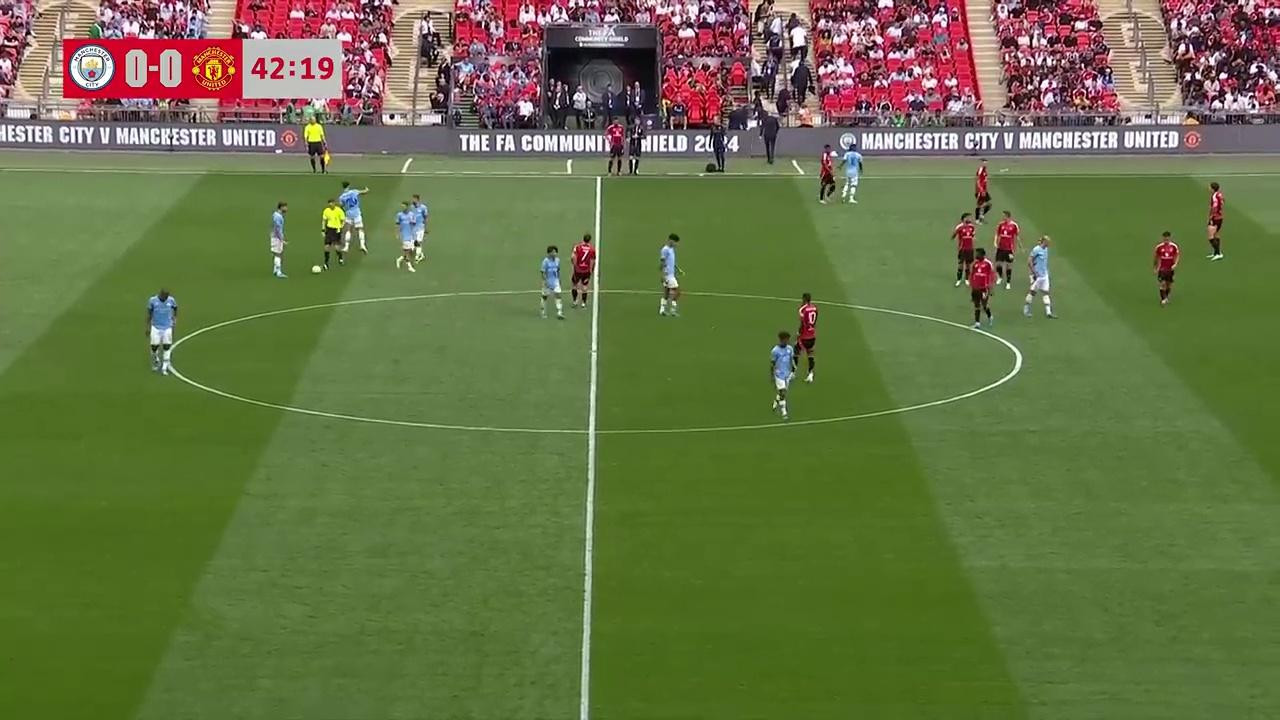ball: (310, 262, 321, 275)
player: (145, 287, 179, 375), (1022, 235, 1056, 319), (338, 181, 369, 254), (992, 210, 1022, 285), (769, 331, 794, 419), (967, 252, 996, 327), (657, 233, 683, 316), (794, 293, 818, 382), (569, 231, 595, 312), (538, 245, 566, 320), (1152, 230, 1179, 305), (950, 212, 976, 285), (393, 201, 420, 271), (269, 200, 289, 279), (1206, 182, 1225, 260), (408, 193, 429, 259), (839, 147, 863, 204), (972, 159, 992, 225), (818, 144, 837, 203)
referee: (314, 197, 348, 272), (305, 112, 328, 174)
